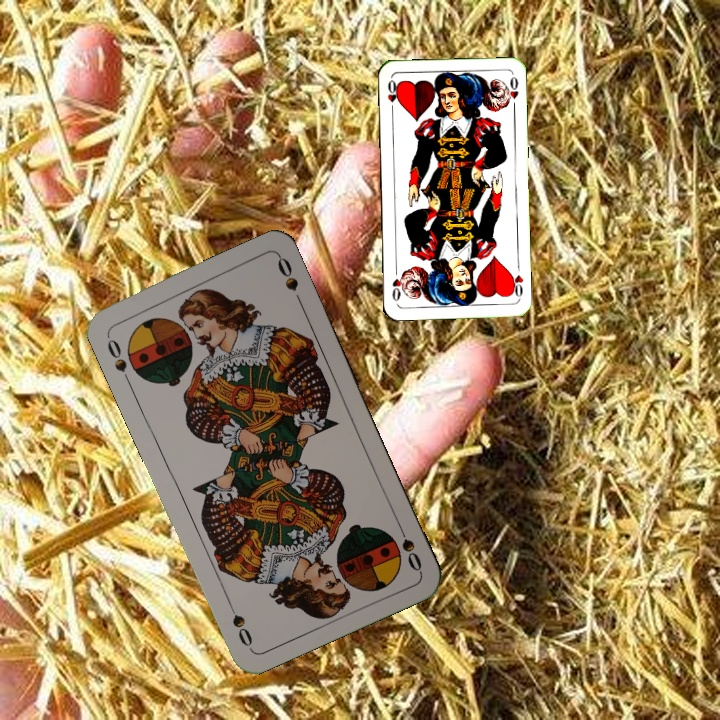HO: (383, 76, 401, 115), (507, 269, 526, 301)
SO: (393, 518, 425, 575), (102, 330, 133, 386)
